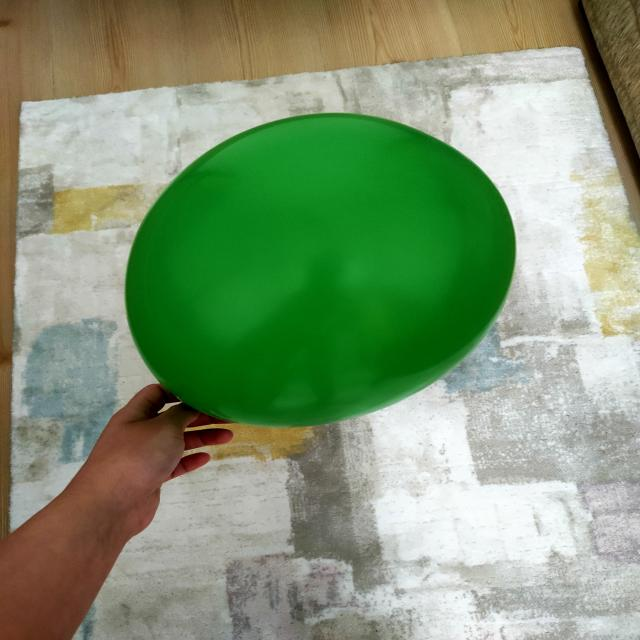green: (123, 109, 518, 426)
